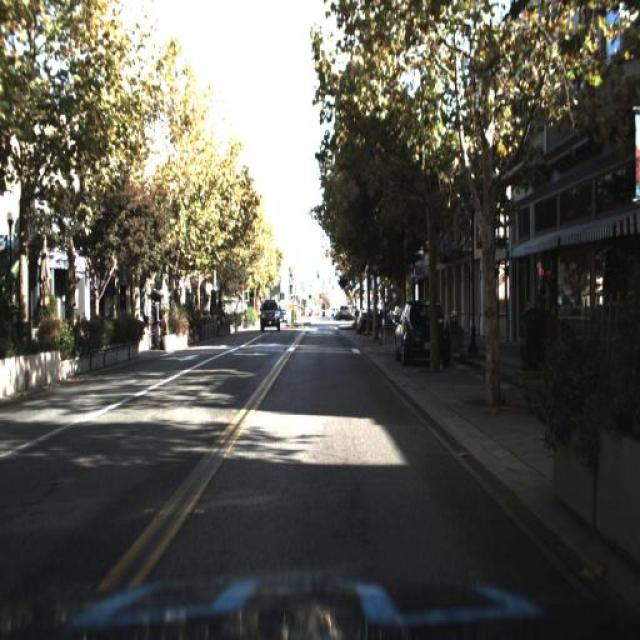car: (390, 298, 448, 368), (354, 302, 384, 342), (253, 298, 279, 338), (258, 298, 284, 338)
